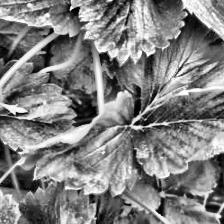Powdery Mildew Leaf: (18, 91, 142, 198), (132, 87, 224, 180), (0, 0, 87, 37)
